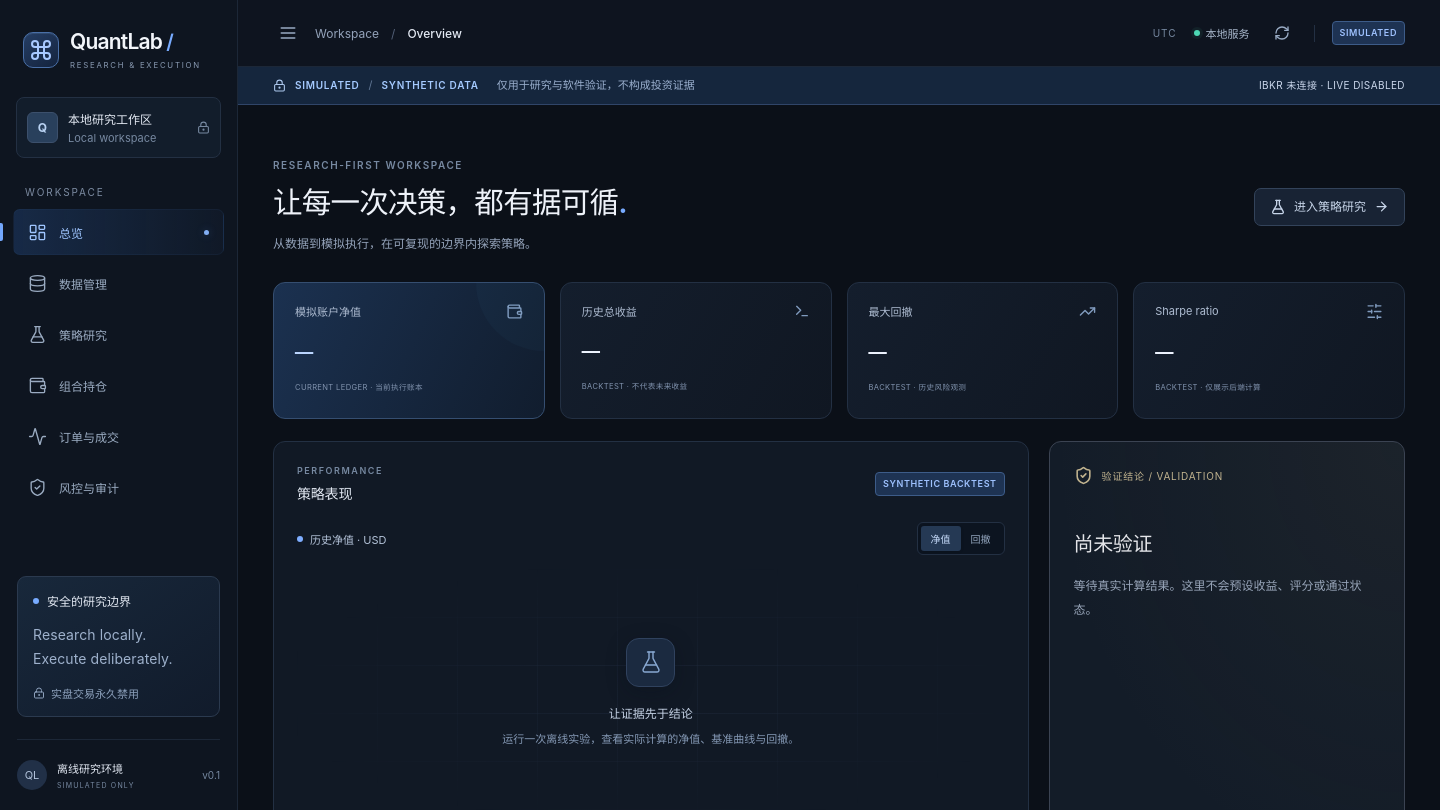
Test: local console and honest state › closes the mobile drawer after navigation
This screenshot has width=1440, height=810.
Click the button named "打开导航": (288, 33) [273, 18, 303, 48]
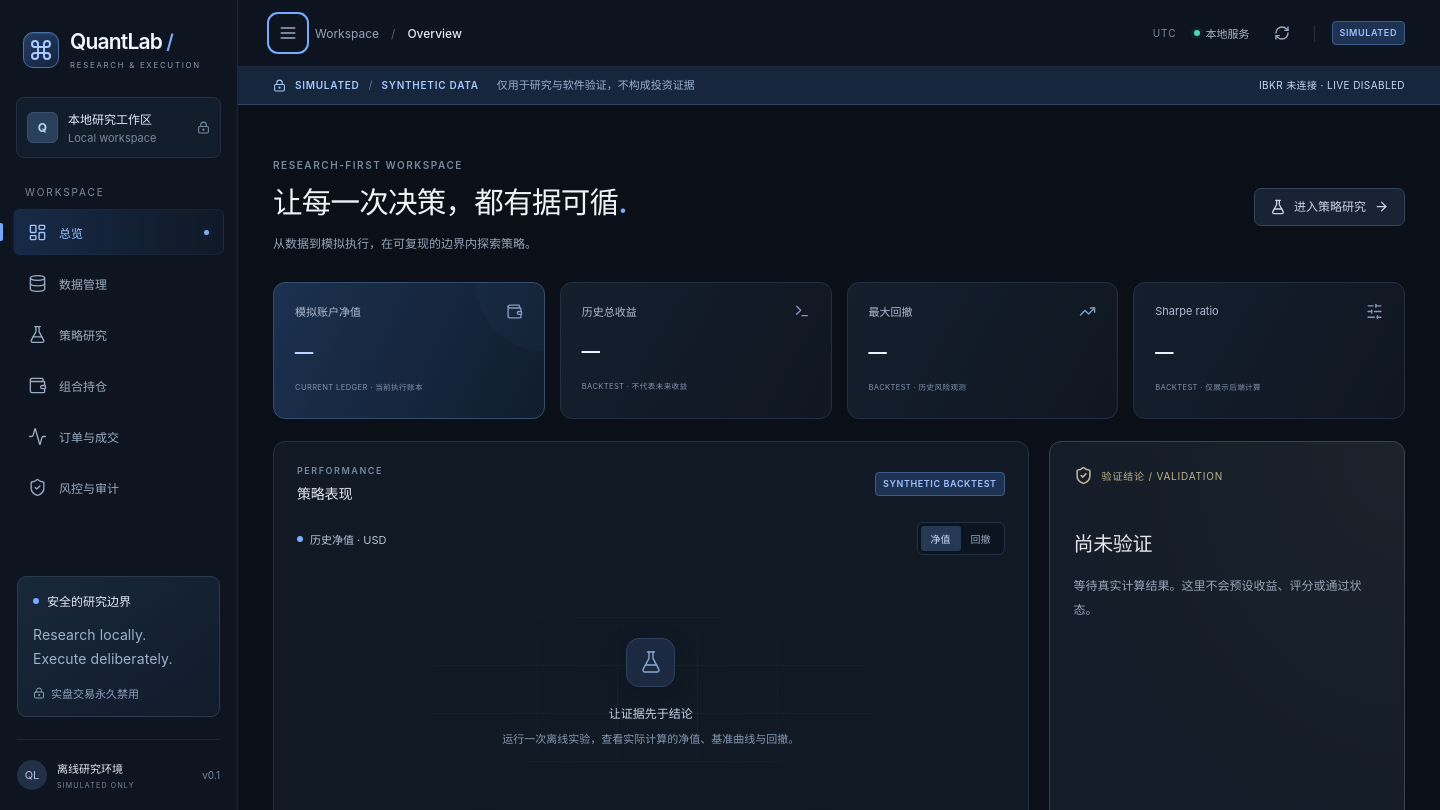
Click the button "数据管理": (118, 283) [13, 260, 224, 306]
(page scrolled)
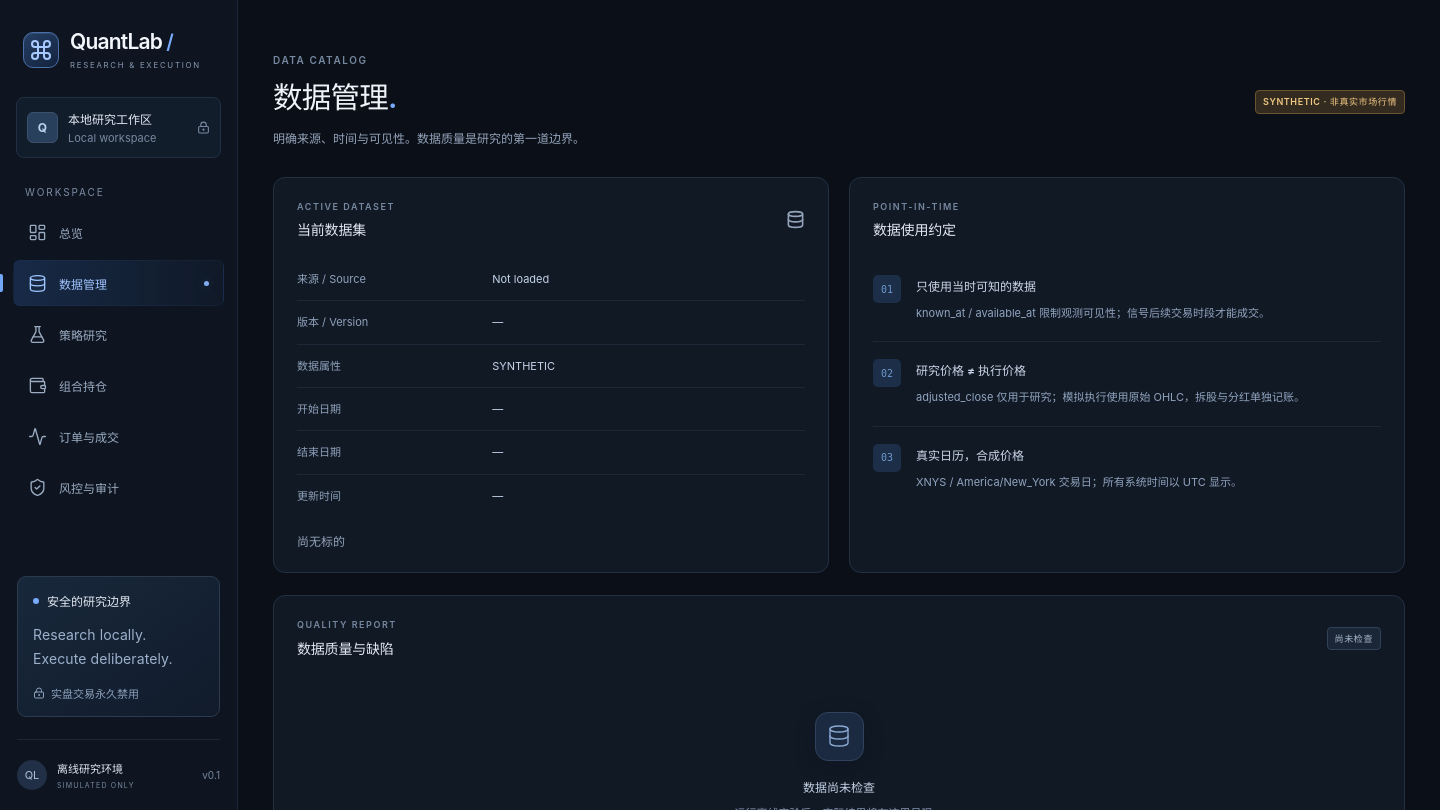
Expected: the element named "主导航" does not have class "sidebar-open", [0, 0, 238, 809]
